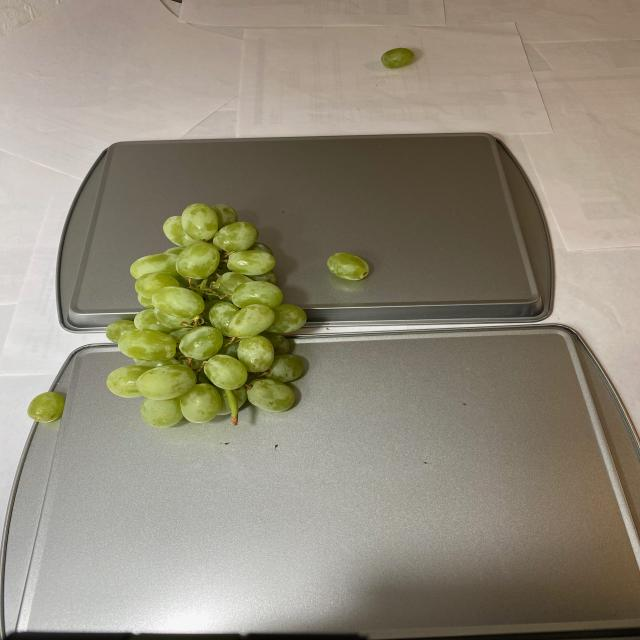grapes: (103, 202, 319, 434), (322, 253, 377, 285), (23, 391, 74, 422), (377, 46, 416, 68)
